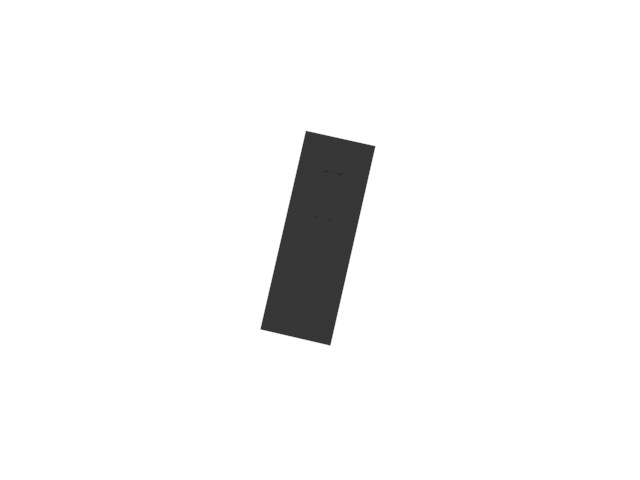file_cabinet: (257, 129, 376, 352)
